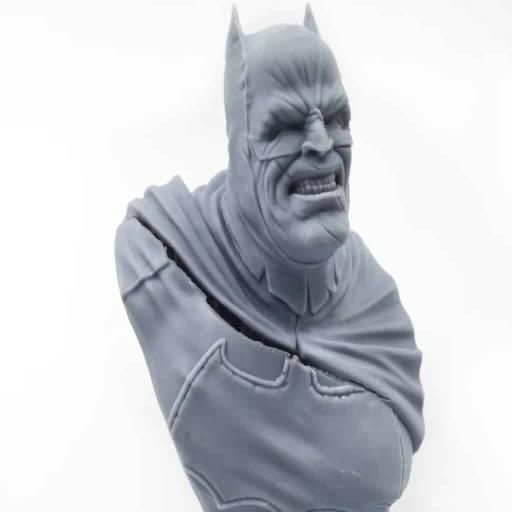cracks: (140, 223, 392, 419)
